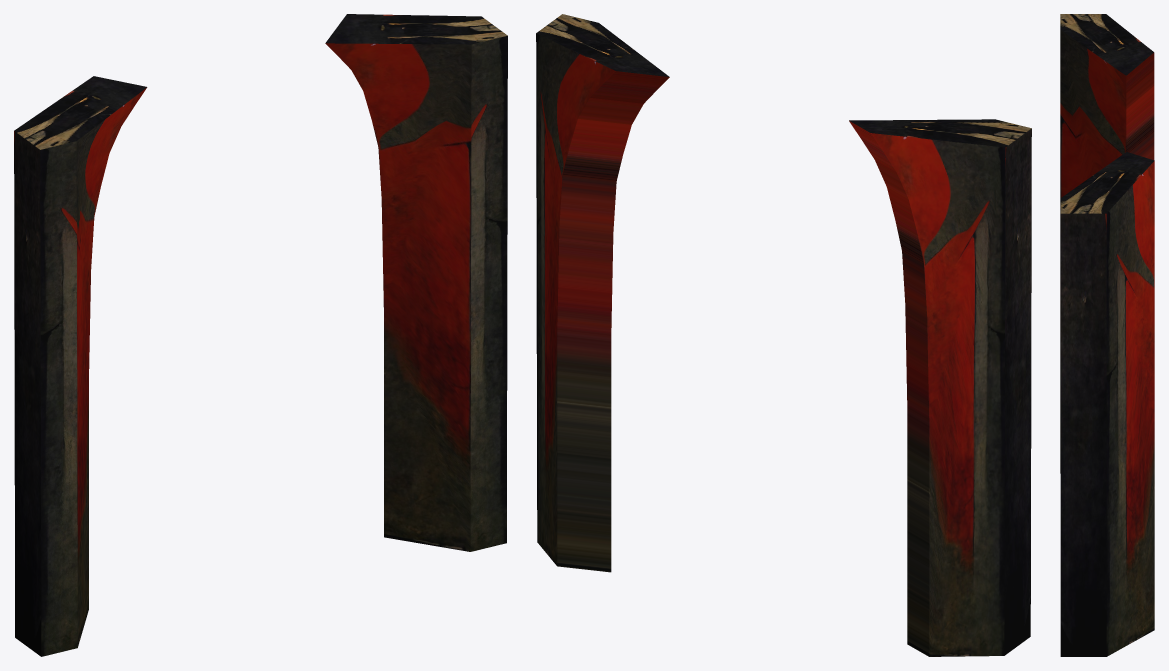
The model's file is arch3.glb.
3 views of the same model, side by side, from view 1: azimuth 30°, elevation 25°; view 2: azimuth 150°, elevation 25°; view 3: azimuth 270°, elevation 25° (orthographic). The views are drawn at different scales.
Visible parts, largest first — view 1: Arch-3; view 2: Arch-3; view 3: Arch-3.
Boxes of the visible parts, x1,y1,x2,y2 form: Arch-3: (14,14,507,656); Arch-3: (536,14,1031,656); Arch-3: (1060,14,1154,656).
Bounding box in the file's own units: 1.93 × 2.04 × 0.3856.
1 material, 1 textured.
